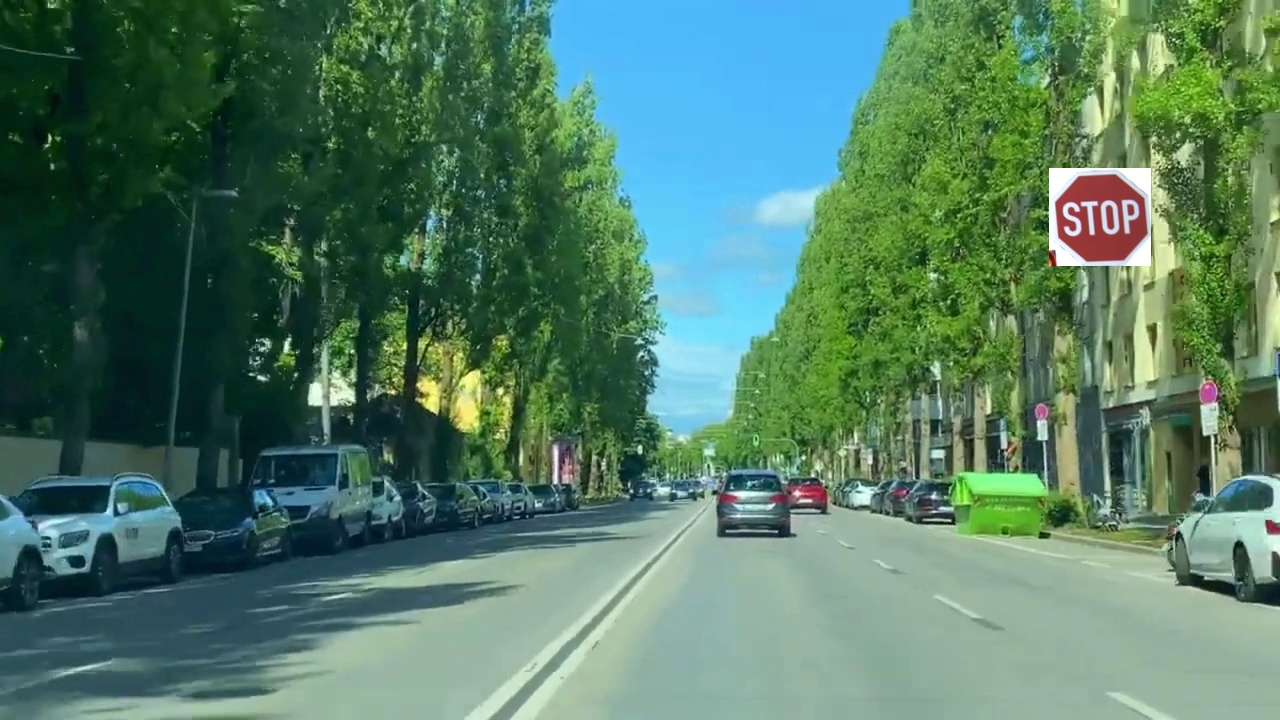Stop: (1049, 168, 1151, 266)
